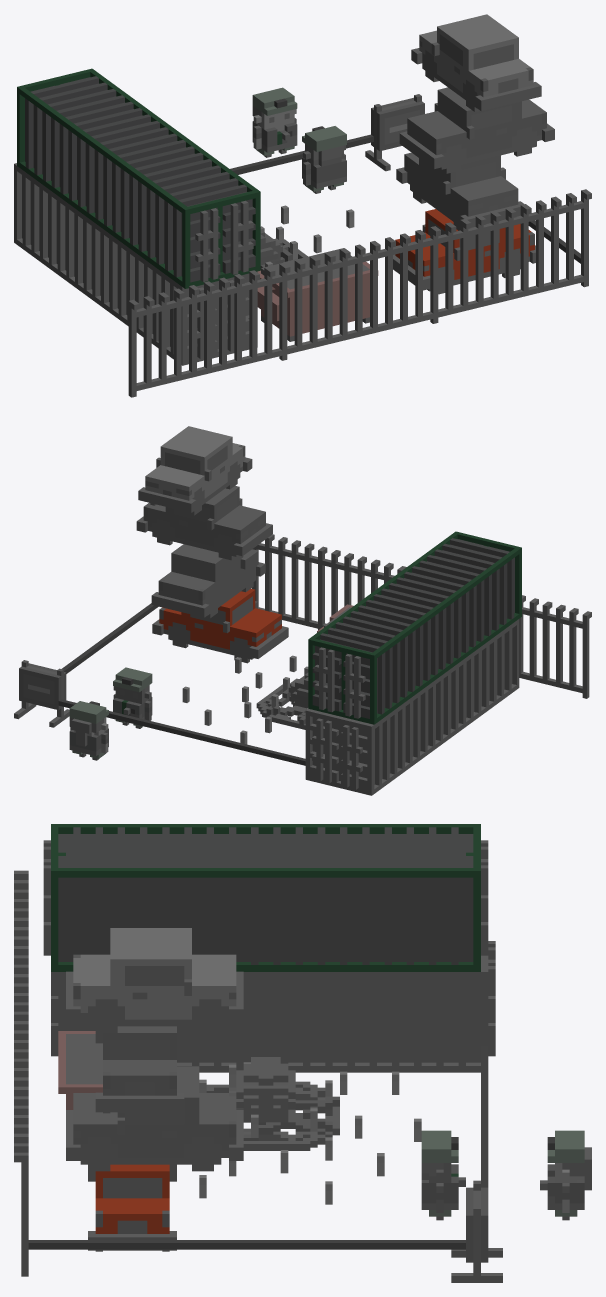
Rendered from scene_sacrifice.obj.
3 renders of one model, top to bottom at view 1: azimuth 30°, elevation 25°; view 2: azimuth 150°, elevation 25°; view 3: azimuth 270°, elevation 25°, orthographic. The views are drawn at different scales.
Size of the model in its own units: 93 by 44 by 78.
